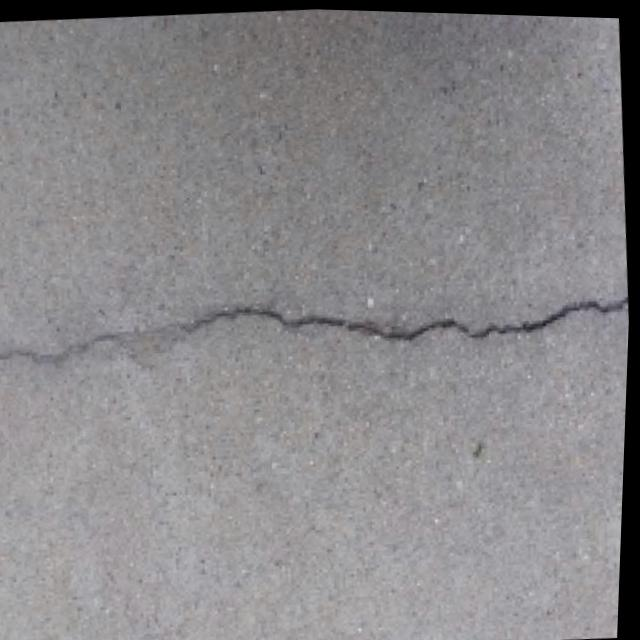Crack: (0, 248, 633, 401)
